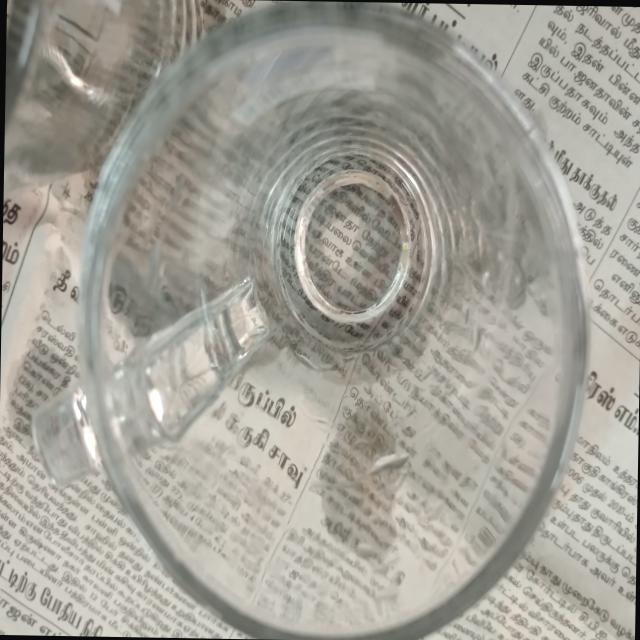glass-VX4N: (26, 0, 591, 640)
